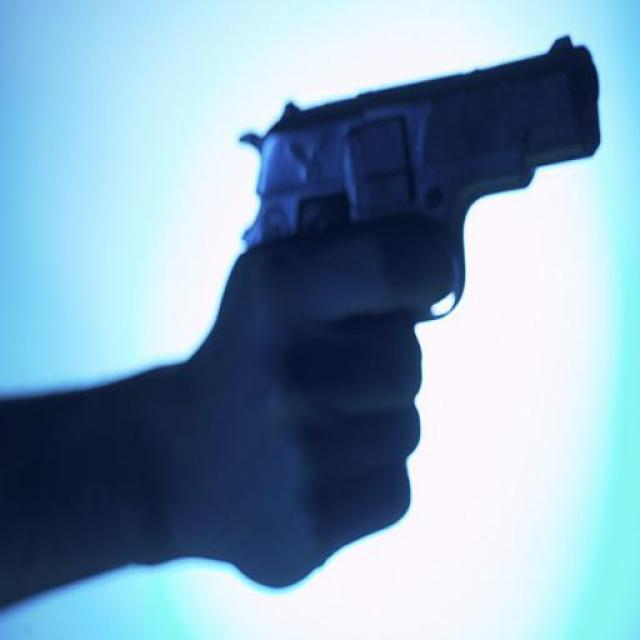pistol: (231, 32, 600, 335)
